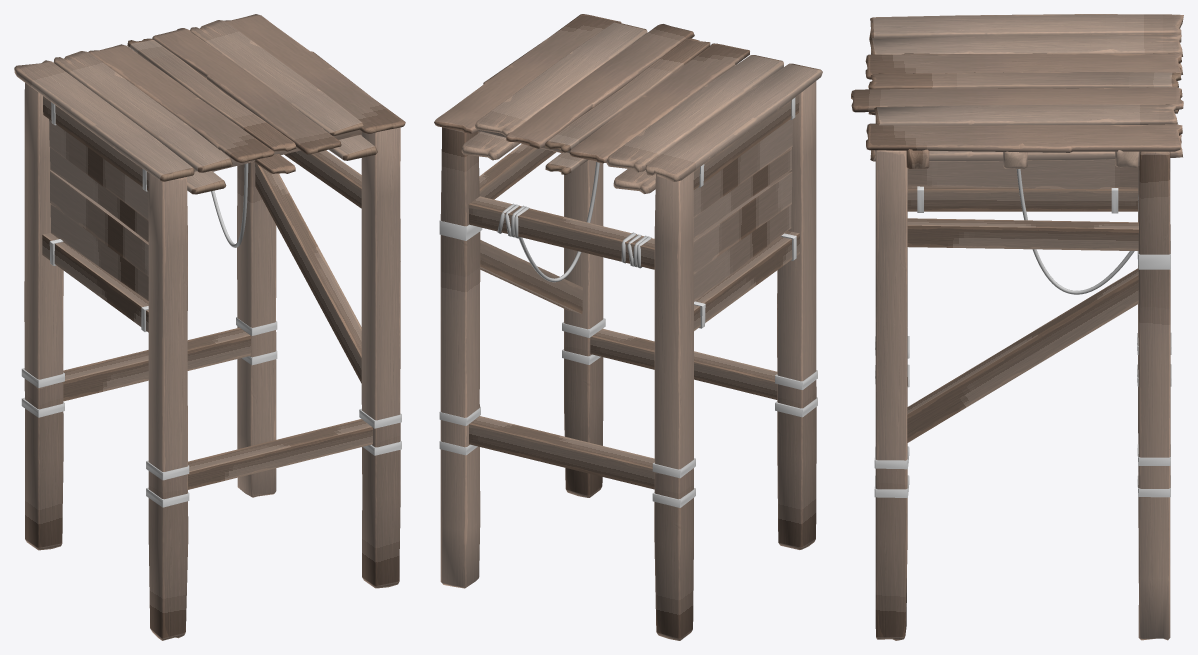
File: SM_Scaffolding_01.fbx
3 renders of one model, left to right at view 1: azimuth 30°, elevation 25°; view 2: azimuth 150°, elevation 25°; view 3: azimuth 270°, elevation 25°, orthographic. The views are drawn at different scales.
Parts seen in each view (by area): view 1: SM_Scaffolding_01_LOD0; view 2: SM_Scaffolding_01_LOD0; view 3: SM_Scaffolding_01_LOD0.
Boxes of the visible parts, box(x1,y1,x2,y2) form: SM_Scaffolding_01_LOD0: box(14, 14, 405, 640); SM_Scaffolding_01_LOD0: box(434, 14, 822, 640); SM_Scaffolding_01_LOD0: box(851, 14, 1183, 640).
Size of the model in its own units: 512 by 560 by 933.
